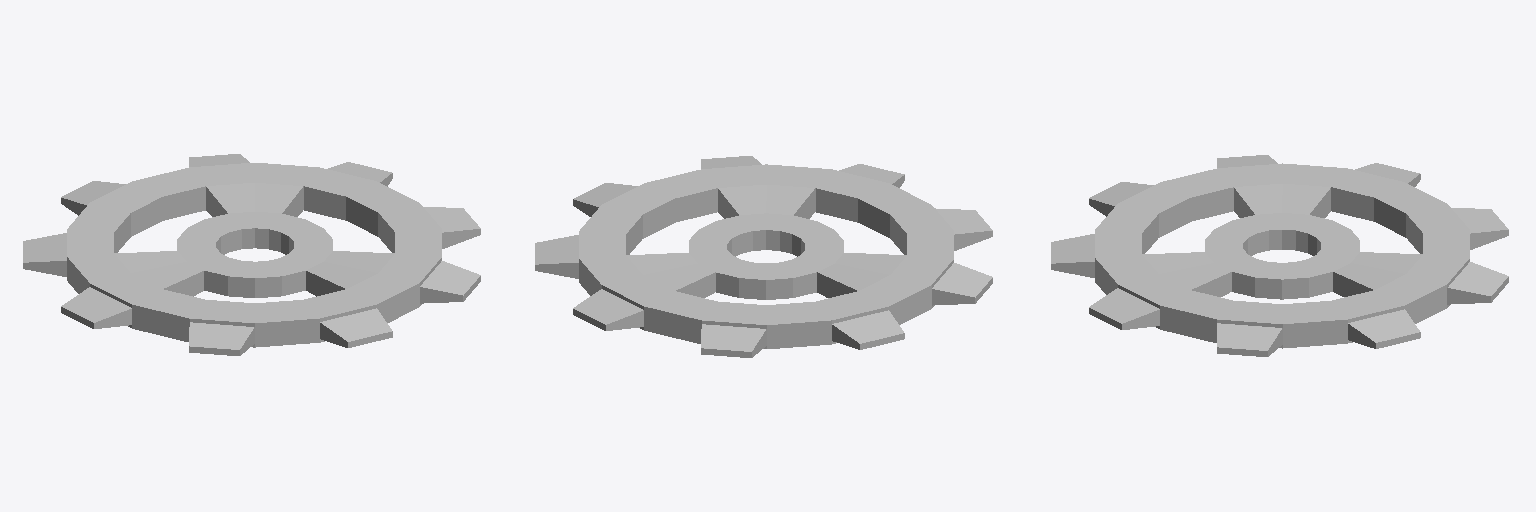
The model's file is Metal Gear.obj.
3 renders of one model, left to right at view 1: azimuth 30°, elevation 25°; view 2: azimuth 150°, elevation 25°; view 3: azimuth 270°, elevation 25°, orthographic.
Parts seen in each view (by area): view 1: Cylinder001; view 2: Cylinder001; view 3: Cylinder001.
Boxes of the visible parts, <box> form: Cylinder001: <box>23,154,480,355</box>; Cylinder001: <box>535,156,992,357</box>; Cylinder001: <box>1051,155,1508,356</box>.
Size of the model in its own units: 52.77 by 3.03 by 51.96.